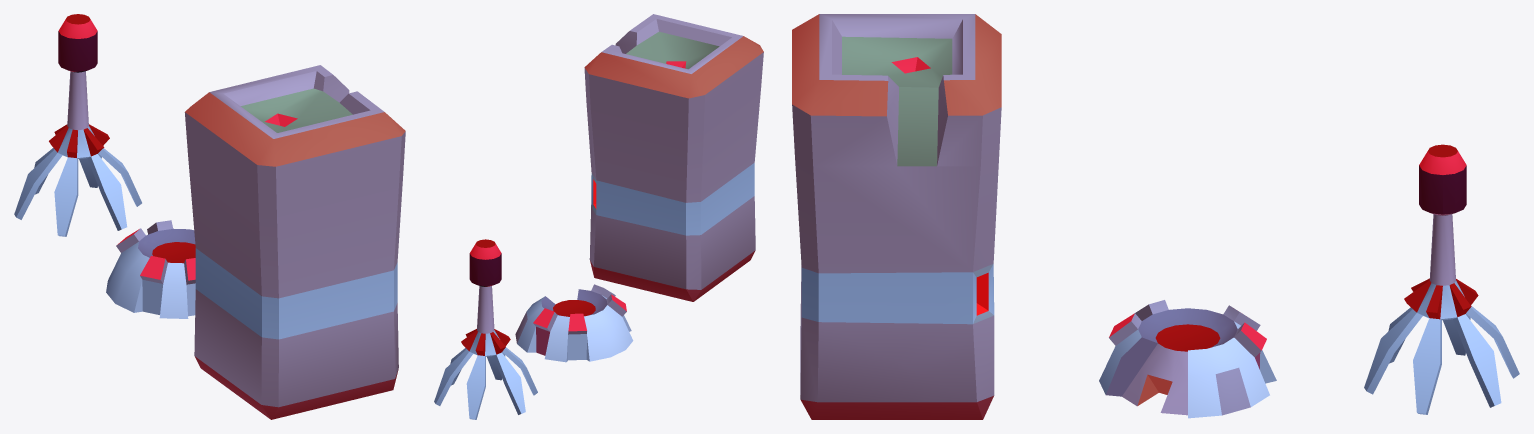
The model's file is mines.glb.
3 views of the same model, side by side, from view 1: azimuth 30°, elevation 25°; view 2: azimuth 150°, elevation 25°; view 3: azimuth 270°, elevation 25° (orthographic). The views are drawn at different scales.
Visible parts, largest first — view 1: Cylinder.002, Cylinder.001, Cylinder; view 2: Cylinder.002, Cylinder, Cylinder.001; view 3: Cylinder.002, Cylinder, Cylinder.001.
Part boxes in pixels (x1,y1,x2,y2): Cylinder.002: [184, 65, 405, 419]; Cylinder.001: [14, 14, 141, 236]; Cylinder: [106, 220, 195, 318]; Cylinder.002: [584, 14, 763, 301]; Cylinder: [515, 284, 633, 362]; Cylinder.001: [434, 239, 537, 419]; Cylinder.002: [792, 14, 1001, 419]; Cylinder: [1099, 300, 1276, 418]; Cylinder.001: [1364, 144, 1519, 414].
Size of the model in its own units: 0.6132 by 1.08 by 2.11.
1 material, 1 textured.
